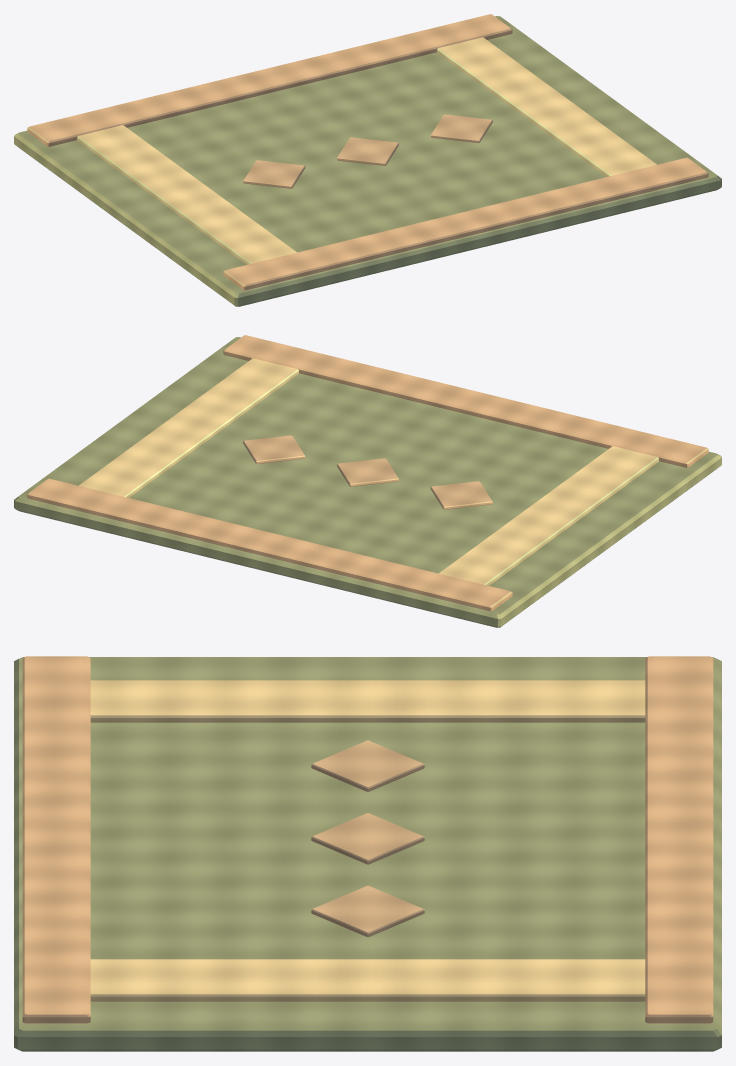
Rendered from furniture_rug.glb.
3 views of the same model, one above another, from view 1: azimuth 30°, elevation 25°; view 2: azimuth 150°, elevation 25°; view 3: azimuth 270°, elevation 25° (orthographic). The views are drawn at different scales.
Parts seen in each view (by area): view 1: Wollteppich; view 2: Wollteppich; view 3: Wollteppich.
Boxes of the visible parts, x1,y1,x2,y2 form: Wollteppich: (14,14,721,306); Wollteppich: (14,335,721,627); Wollteppich: (14,656,721,1051).
Size of the model in its own units: 1.3 by 0.0475 by 1.03.
Materials: 1 (1 with a texture image).
